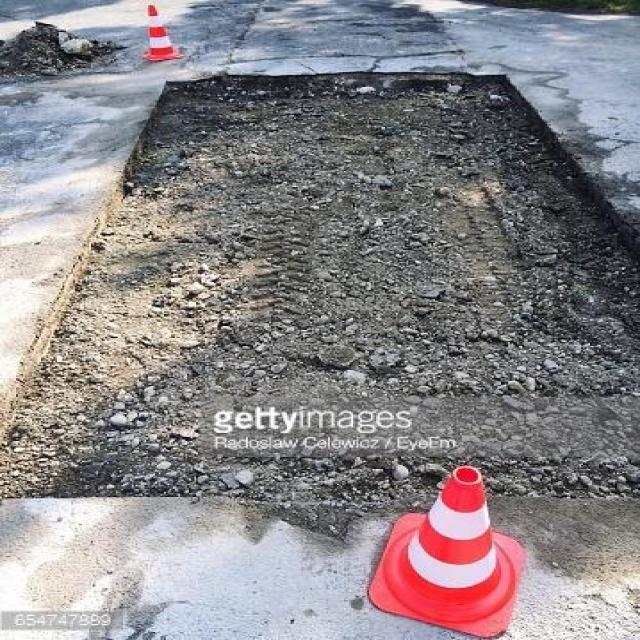Cone: (372, 463, 540, 640), (134, 0, 191, 63)
